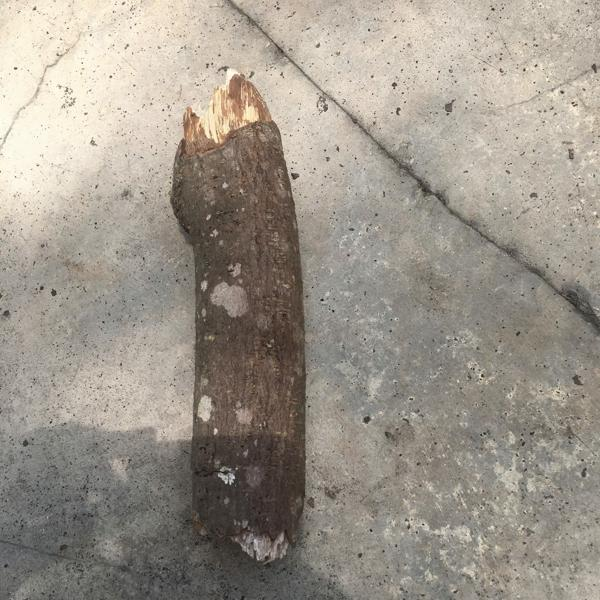Organik: (153, 60, 345, 568)
